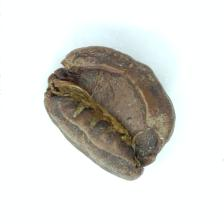NG: (56, 58, 154, 160)
